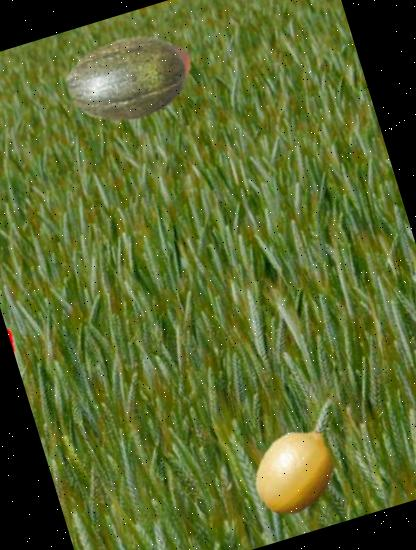Hazelnut: (120, 30, 206, 116)
Lemon: (239, 414, 353, 528)
Melon: (52, 4, 206, 158)
